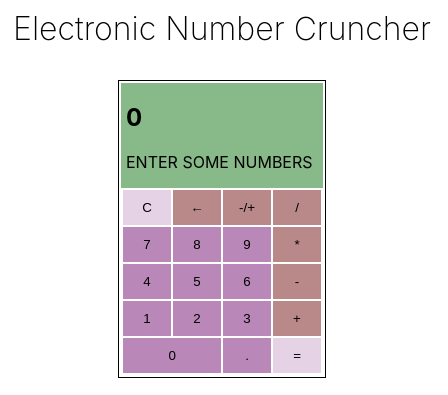
Scenario: check division of number
Click the button "8" at (197, 244), box [172, 226, 222, 263]
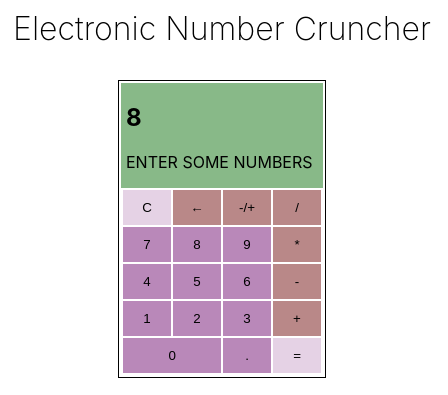
Click the button "/" at (297, 207), box [272, 189, 322, 226]
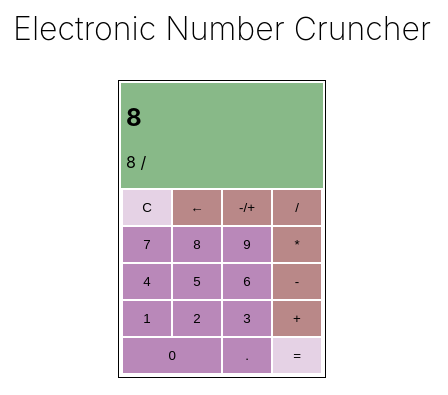
Click the button "4" at (147, 281), box [122, 263, 172, 300]
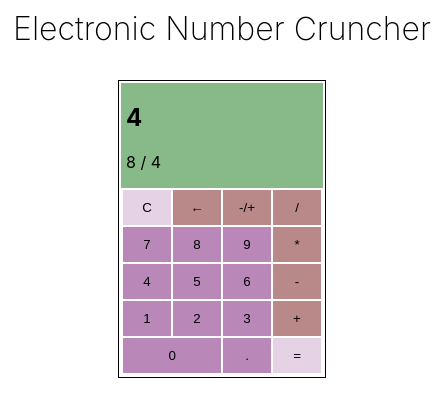
Click the button "=" at (297, 355), box [272, 337, 322, 374]
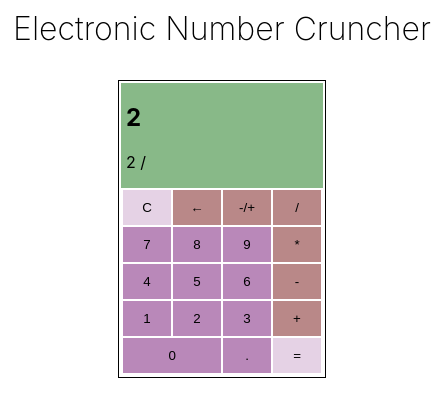
Expected: the heading titled "display-numbers" reads "2", [126, 103, 141, 132]
